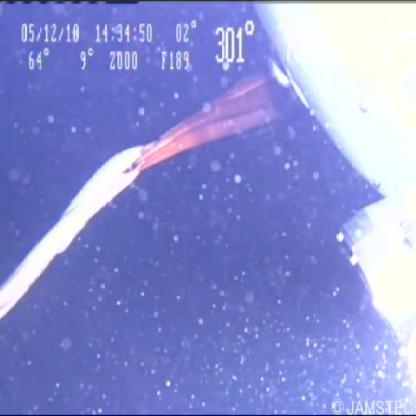Bio: (1, 64, 295, 321)
